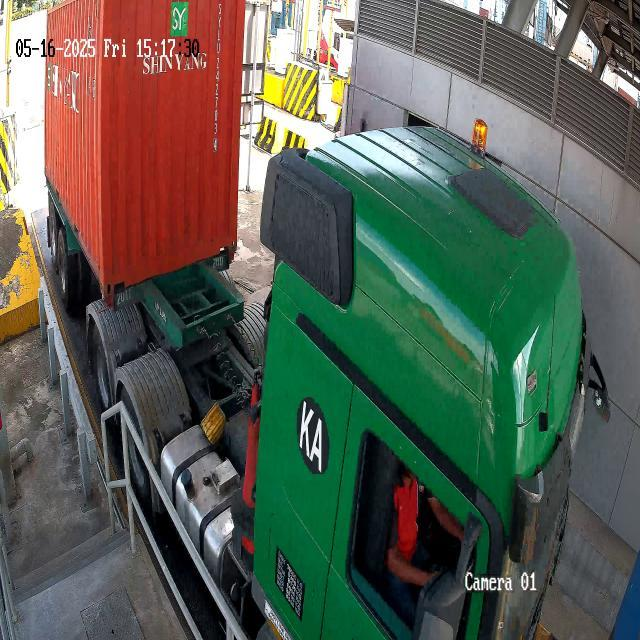container_number: (207, 0, 224, 153)
